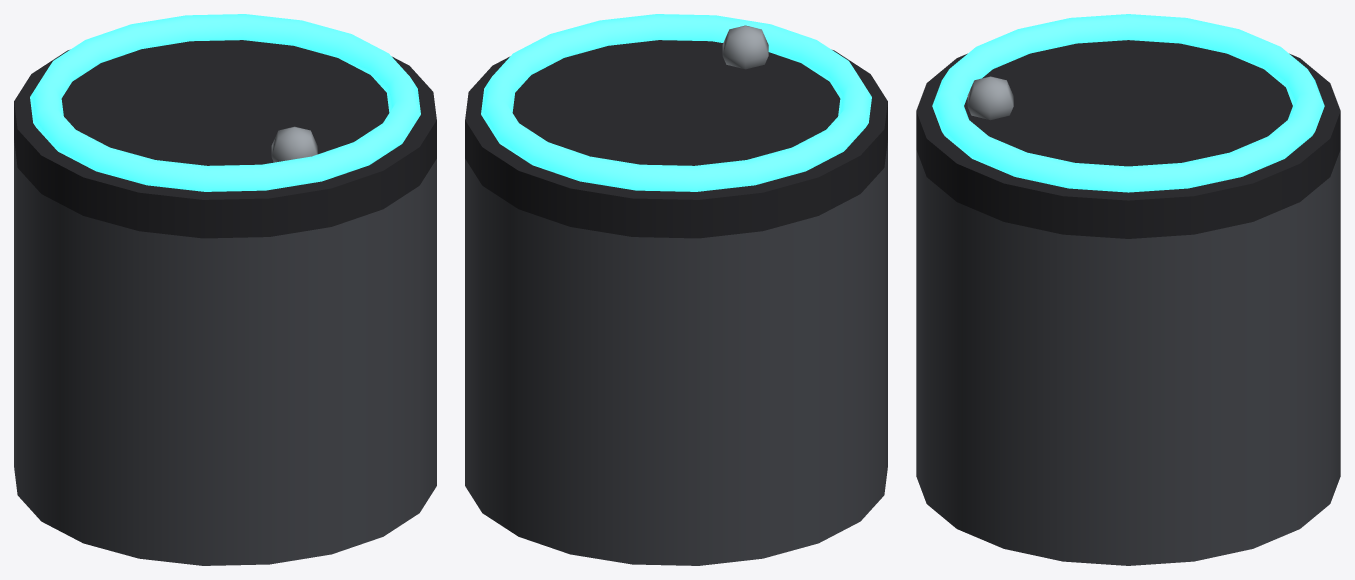
The model's file is alexa.glb.
3 renders of one model, left to right at view 1: azimuth 30°, elevation 25°; view 2: azimuth 150°, elevation 25°; view 3: azimuth 270°, elevation 25°, orthographic.
Parts seen in each view (by area): view 1: alexa; view 2: alexa; view 3: alexa.
Boxes of the visible parts, x1=… form: alexa: x1=14, y1=14, x2=436, y2=565; alexa: x1=465, y1=14, x2=887, y2=565; alexa: x1=916, y1=14, x2=1340, y2=565.
Size of the model in its own units: 0.4 by 0.415 by 0.4.
